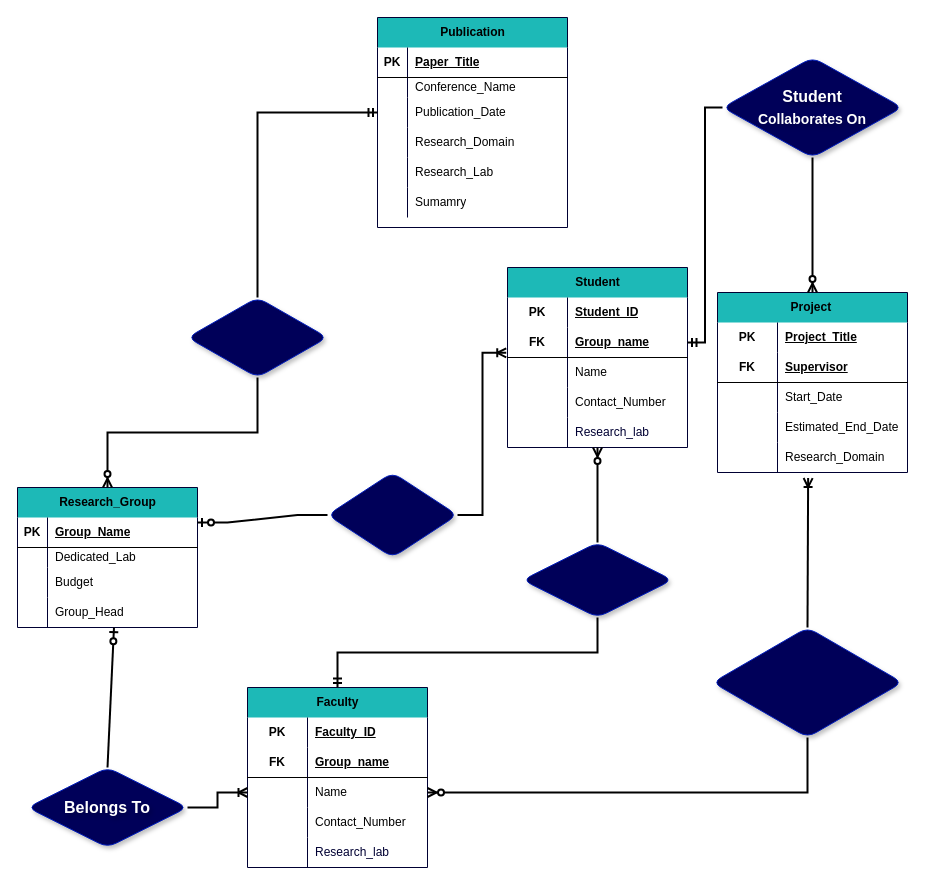
The diagram is 926 pixels wide and 885 high, and some of its shapes have lost their labels. Each missing label, with the centre of its shape:
Authored By: the point at 258,338
Faculty Collaborates On: the point at 808,683
Part of: the point at 393,516
Supervises: the point at 598,581
